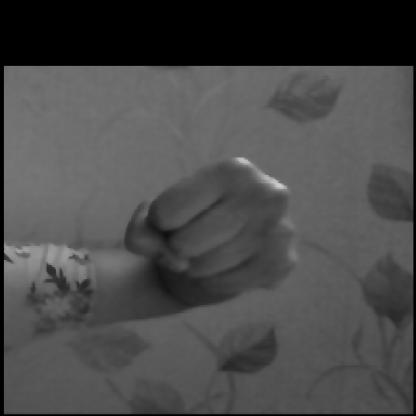fist: (87, 146, 319, 340)
